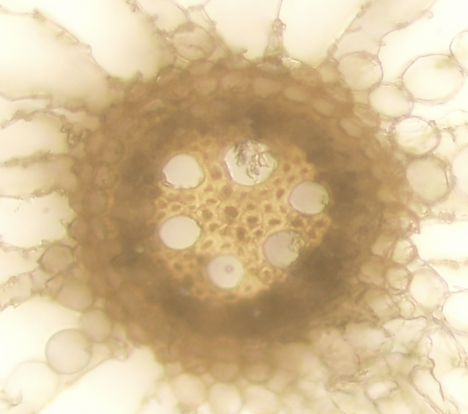lm: (225, 139, 277, 185), (157, 214, 202, 250), (262, 229, 304, 267), (161, 152, 204, 189), (288, 181, 329, 215), (208, 255, 245, 289)
